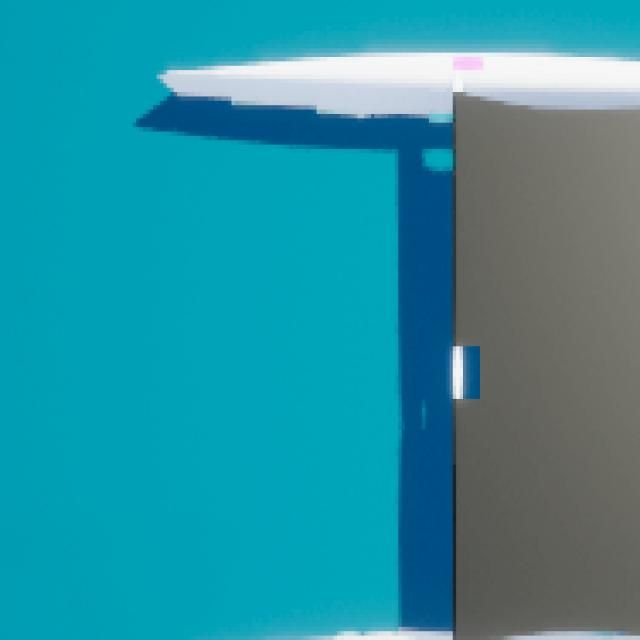boat: (143, 44, 640, 640)
drone: (456, 83, 640, 636)
